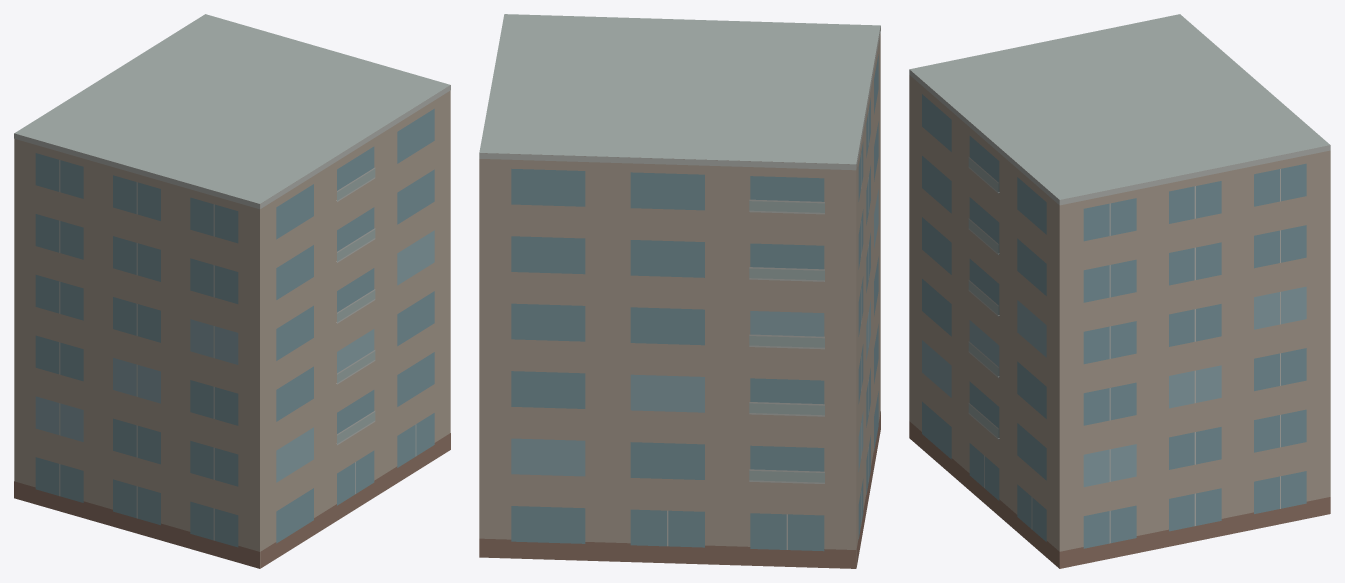
Rendered from survey-upis-32744165.glb.
3 renders of one model, left to right at view 1: azimuth 30°, elevation 25°; view 2: azimuth 150°, elevation 25°; view 3: azimuth 270°, elevation 25°, orthographic. The views are drawn at different scales.
Parts seen in each view (by area): view 1: survey-upis-32744165.tmp; view 2: survey-upis-32744165.tmp; view 3: survey-upis-32744165.tmp.
Boxes of the visible parts, <box> form: survey-upis-32744165.tmp: <box>14,14,450,568</box>; survey-upis-32744165.tmp: <box>479,14,880,568</box>; survey-upis-32744165.tmp: <box>909,14,1330,568</box>.
Size of the model in its own units: 17.96 by 16.6 by 17.19.
